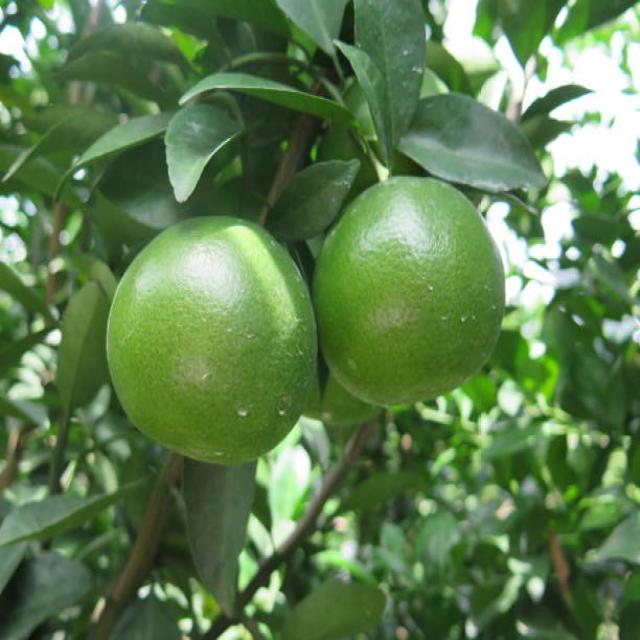Unripe: (105, 213, 315, 464), (312, 173, 505, 407)
